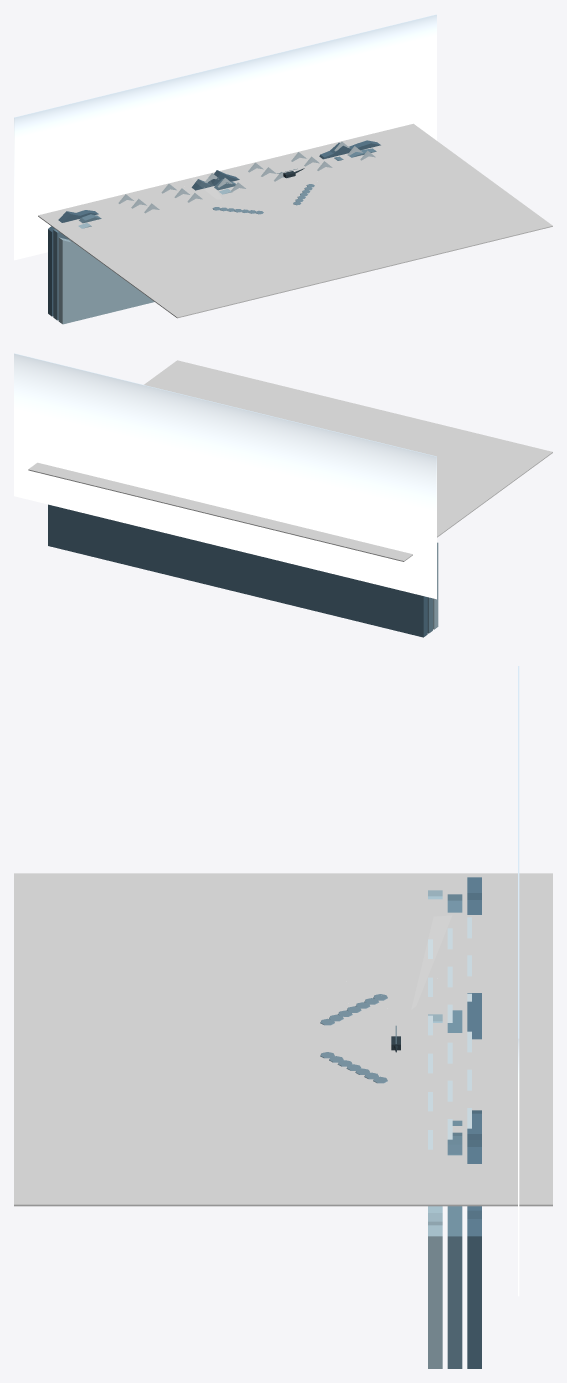
The model's file is midnightevac.glb.
3 views of the same model, one above another, from view 1: azimuth 30°, elevation 25°; view 2: azimuth 150°, elevation 25°; view 3: azimuth 270°, elevation 25° (orthographic). The views are drawn at different scales.
Parts seen in each view (by area): view 1: Ground contact / transparent shadow receiver.069, Sky gradient / editable material.069, World / terrain and architecture.032; view 2: Sky gradient / editable material.069, Ground contact / transparent shadow receiver.069, World / terrain and architecture.032; view 3: Ground contact / transparent shadow receiver.069, World / terrain and architecture.032, Sky gradient / editable material.069, Foreground / edge details.030.
Boxes of the visible parts, x1,y1,x2,y2 form: Ground contact / transparent shadow receiver.069: [38, 123, 552, 318]; Sky gradient / editable material.069: [14, 14, 436, 260]; World / terrain and architecture.032: [48, 140, 380, 324]; Sky gradient / editable material.069: [14, 353, 436, 599]; Ground contact / transparent shadow receiver.069: [28, 360, 552, 561]; World / terrain and architecture.032: [48, 504, 438, 637]; Ground contact / transparent shadow receiver.069: [14, 873, 552, 1206]; World / terrain and architecture.032: [391, 877, 481, 1368]; Sky gradient / editable material.069: [518, 666, 519, 1296]; Foreground / edge details.030: [320, 994, 387, 1083].
Size of the model in its own units: 180 by 79 by 110.
